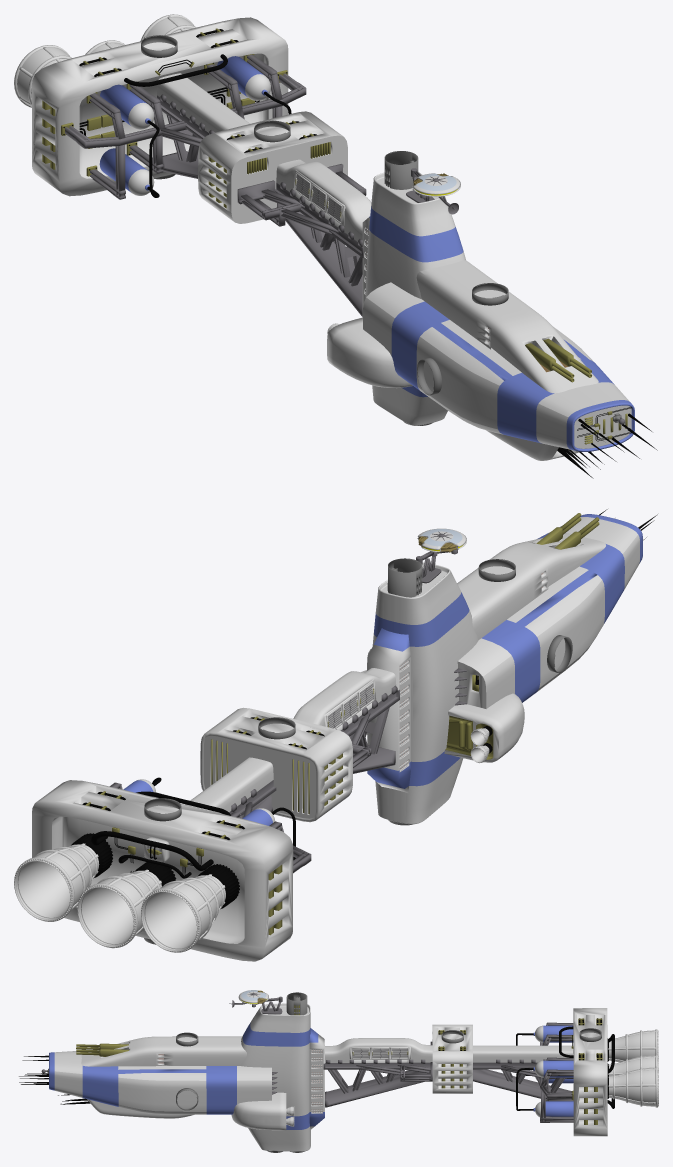
Rendered from EABrehenyHyperion.glb.
3 views of the same model, one above another, from view 1: azimuth 30°, elevation 25°; view 2: azimuth 150°, elevation 25°; view 3: azimuth 270°, elevation 25° (orthographic). The views are drawn at different scales.
Visible parts, largest first — view 1: HYP_MAIN_GIRDERS, HYP_REAR_ENGINE_B, HYP_HULL_UPPER, HYP_TOWER_HULL_R, HYP_PRIMARY_HULL_BLUE, HYP_PRIMARY_HULL_RIGH, HYP_CENTRE_HULL, HYP_CENTRE_BLOBK, HYP_REAR_ENGINE_BLOCK, HYP_CROSS_HULL, HYP_CENTRE_BLOBK_ENDS, HYP_PRIMARY_HULL_TOP (+15 smaller); view 2: HYP_REAR_ENGINE_B, HYP_ENGINE_BELL, HYP_TOWER_HULL_R, HYP_CENTRE_BLOBK, HYP_HULL_UPPER, HYP_REAR_ENGINE_BLOCK, HYP_PRIMARY_HULL_BLUE, HYP_CENTRE_HULL, HYP_PRIMARY_HULL_RIGH, HYP_MAIN_GIRDERS, HYP_ENGINE_BELL_D, HYP_CENTRE_BLOBK_ENDS (+15 smaller); view 3: HYP_MAIN_GIRDERS, HYP_TOWER_HULL_L, HYP_PRIMARY_HULL_LEFT, HYP_REAR_ENGINE_B, HYP_HULL_UPPER, HYP_PRIMARY_HULL_.002, HYP_CENTRE_HULL, HYP_ENGINE_BELL, HYP_CENTRE_BLOBK, HYP_CROSS_HULL, HYP_ENGINE_BELL_D, HYP_CANNISTER_BLUE (+18 smaller).
Part boxes in pixels (x1,y1,x2,y2): HYP_MAIN_GIRDERS: [65, 54, 458, 316]; HYP_REAR_ENGINE_B: [32, 17, 288, 196]; HYP_HULL_UPPER: [416, 260, 598, 393]; HYP_TOWER_HULL_R: [365, 172, 446, 425]; HYP_PRIMARY_HULL_BLUE: [391, 301, 603, 451]; HYP_PRIMARY_HULL_RIGH: [363, 297, 571, 449]; HYP_CENTRE_HULL: [157, 73, 371, 241]; HYP_CENTRE_BLOBK: [198, 111, 343, 221]; HYP_REAR_ENGINE_BLOCK: [79, 53, 268, 178]; HYP_CROSS_HULL: [327, 317, 412, 388]; HYP_CENTRE_BLOBK_ENDS: [231, 135, 347, 223]; HYP_PRIMARY_HULL_TOP: [366, 282, 629, 417]; HYP_REAR_ENGINE_B: [32, 780, 293, 961]; HYP_ENGINE_BELL: [14, 844, 225, 951]; HYP_TOWER_HULL_R: [394, 565, 478, 824]; HYP_CENTRE_BLOBK: [200, 707, 352, 822]; HYP_HULL_UPPER: [457, 533, 605, 640]; HYP_REAR_ENGINE_BLOCK: [52, 816, 244, 943]; HYP_PRIMARY_HULL_BLUE: [481, 518, 642, 702]; HYP_CENTRE_HULL: [185, 668, 396, 813]; HYP_PRIMARY_HULL_RIGH: [483, 535, 639, 708]; HYP_MAIN_GIRDERS: [110, 531, 457, 873]; HYP_ENGINE_BELL_D: [14, 843, 225, 952]; HYP_CENTRE_BLOBK_ENDS: [203, 735, 316, 818]; HYP_MAIN_GIRDERS: [229, 992, 573, 1122]; HYP_TOWER_HULL_L: [241, 1009, 310, 1151]; HYP_PRIMARY_HULL_LEFT: [54, 1071, 271, 1111]; HYP_REAR_ENGINE_B: [573, 1008, 607, 1136]; HYP_HULL_UPPER: [81, 1036, 246, 1066]; HYP_PRIMARY_HULL_.002: [49, 1058, 236, 1114]; HYP_CENTRE_HULL: [325, 1038, 573, 1062]; HYP_ENGINE_BELL: [609, 1030, 658, 1106]; HYP_CENTRE_BLOBK: [432, 1024, 472, 1093]; HYP_CROSS_HULL: [231, 1092, 286, 1130]; HYP_ENGINE_BELL_D: [608, 1029, 657, 1107]; HYP_CANNISTER_BLUE: [533, 1025, 573, 1116].
Bounding box in the file's own units: 255 × 269 × 1017.
